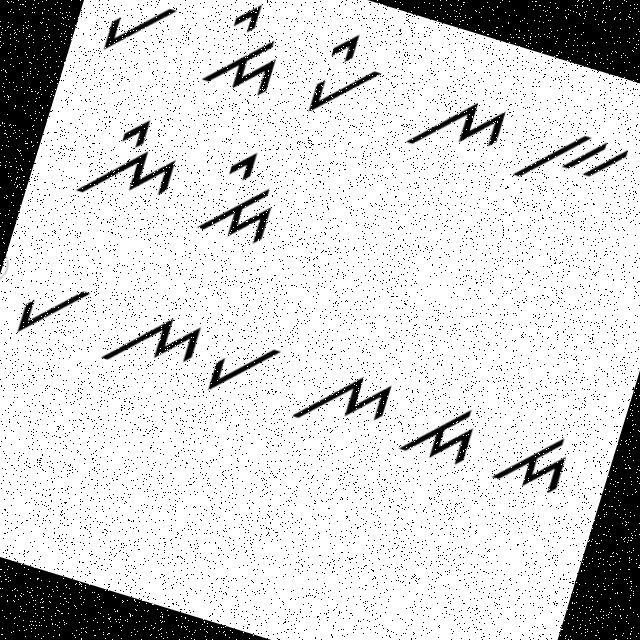da: (486, 409, 586, 514), (391, 384, 489, 489)
di: (186, 136, 299, 266), (192, 0, 299, 106)
na: (90, 290, 210, 400), (398, 72, 514, 182), (278, 349, 398, 454)
ni: (72, 98, 195, 231)
pa: (2, 260, 99, 356), (200, 322, 288, 421)
pi: (292, 18, 394, 132), (91, 0, 194, 70)
